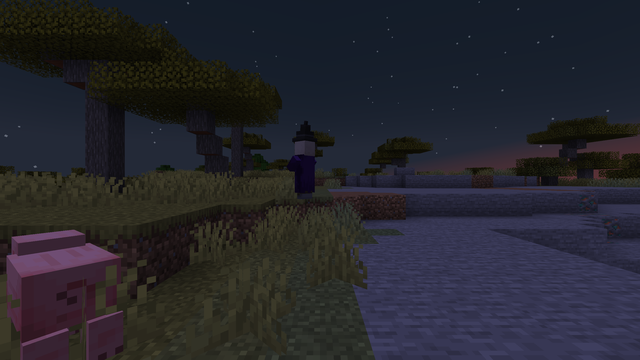cochons: (6, 242, 140, 354)
sorcieres: (294, 138, 313, 199)
